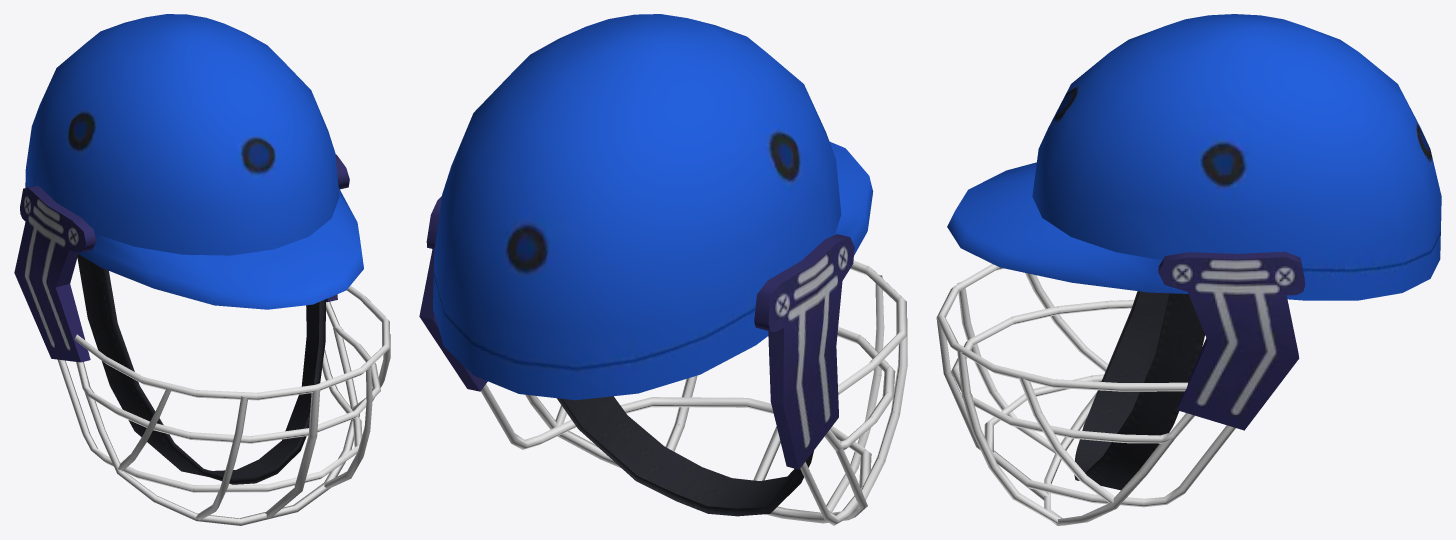
The model's file is helmet.glb.
The picture shows the model from 3 angles, left to right: view 1: azimuth 30°, elevation 25°; view 2: azimuth 150°, elevation 25°; view 3: azimuth 270°, elevation 25°; orthographic projection. The views are drawn at different scales.
Visible parts, largest first — view 1: Helmet_CricketEquipments_0; view 2: Helmet_CricketEquipments_0; view 3: Helmet_CricketEquipments_0.
Part boxes in pixels (x1,y1,x2,y2): Helmet_CricketEquipments_0: (14,14,390,525); Helmet_CricketEquipments_0: (419,14,907,525); Helmet_CricketEquipments_0: (936,14,1441,525).
Size of the model in its own units: 0.1933 by 0.2799 by 0.2717.
Materials: 1 (1 with a texture image).
